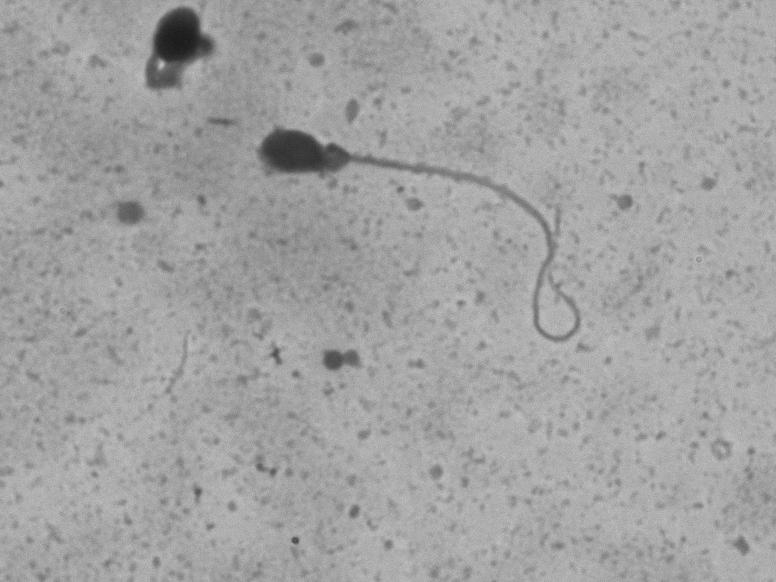Abnormal: (218, 90, 612, 344)
